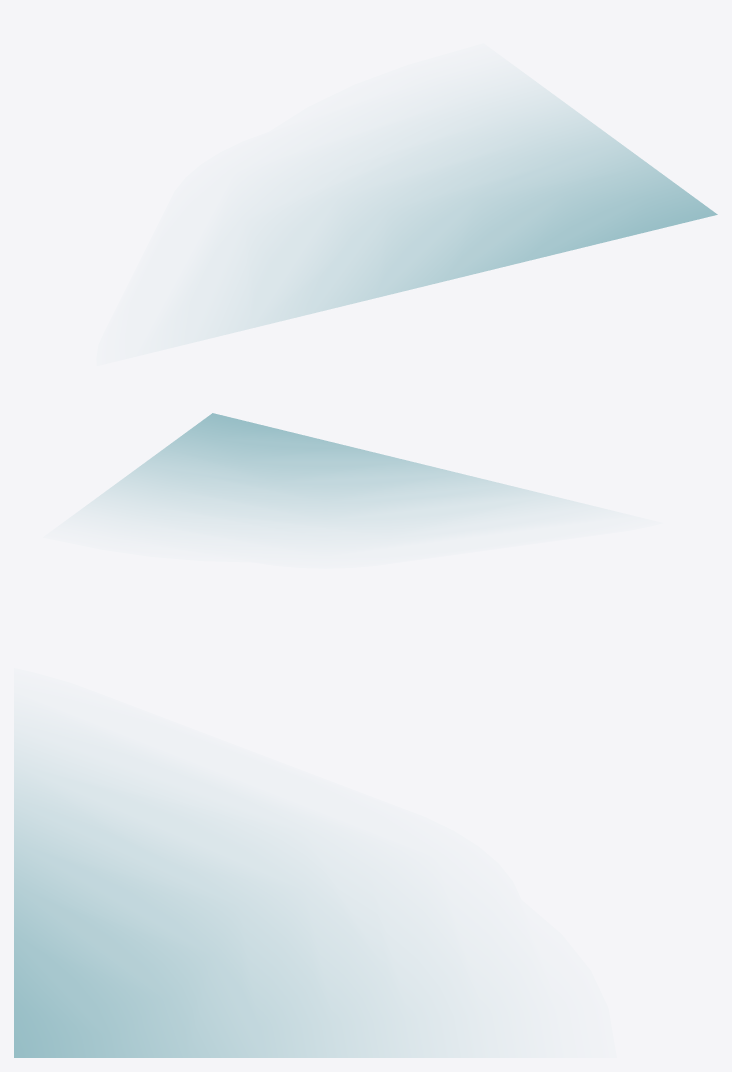
The picture shows the model from 3 angles, top to bottom: view 1: azimuth 30°, elevation 25°; view 2: azimuth 150°, elevation 25°; view 3: azimuth 270°, elevation 25°; orthographic projection. The views are drawn at different scales.
Visible parts, largest first — view 1: city; view 2: city; view 3: city.
Boxes of the visible parts, left/top/right/bottom form: city: left=210, top=86, right=717, bottom=337; city: left=86, top=413, right=578, bottom=531; city: left=14, top=739, right=467, bottom=1057.
Bounding box in the file's own units: 410 × 0 × 279.
